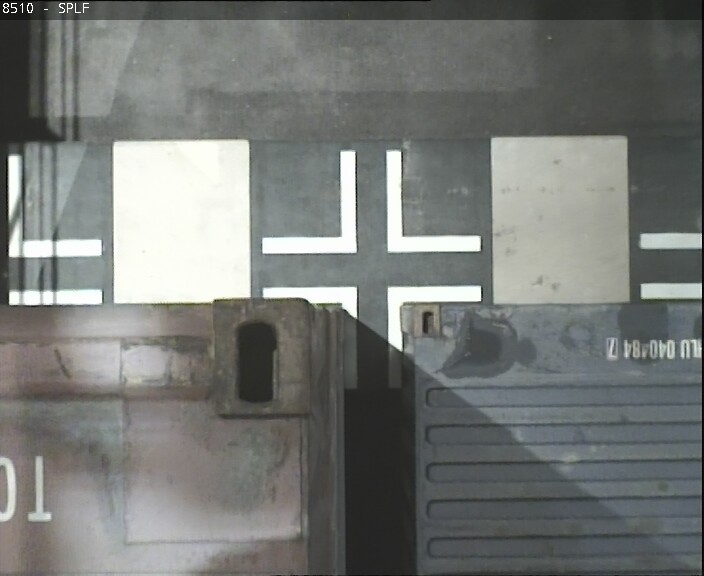groundmarker_1: (263, 152, 483, 258), (264, 284, 484, 390)
